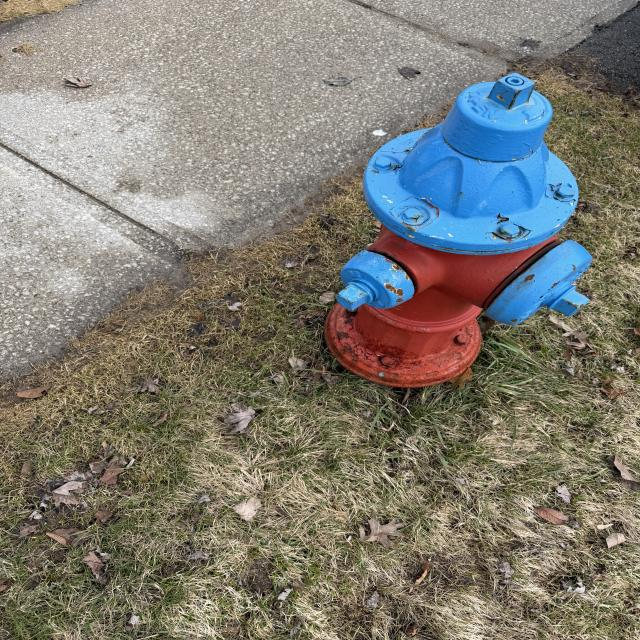Fire hydrant: (317, 72, 595, 389)
